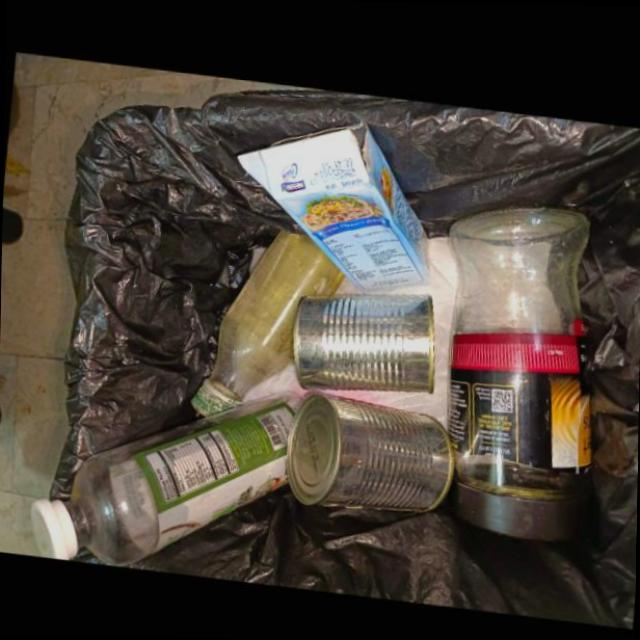chai_thuy_tinh: (447, 198, 595, 533), (30, 385, 303, 562), (190, 226, 342, 413)
nhom: (284, 386, 455, 508), (291, 288, 434, 389)
vo_hop_sua: (233, 117, 429, 289)
